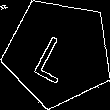L_NE: (33, 22, 84, 82)
